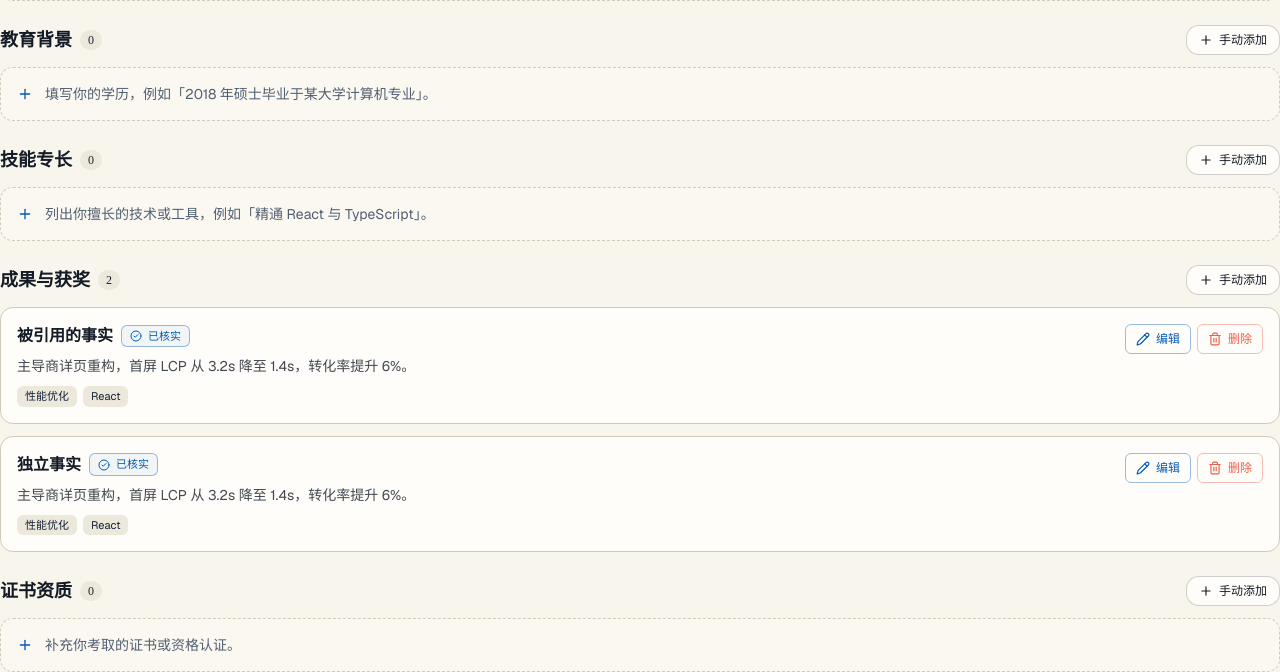
Profile 事实删除入口 › 无反向引用时提示没有被任何简历引用
The width and height of the screenshot is (1280, 672).
(page scrolled)
Click the button with aria-label "删除「独立事实」" at (1230, 468), box [1197,452,1263,482]
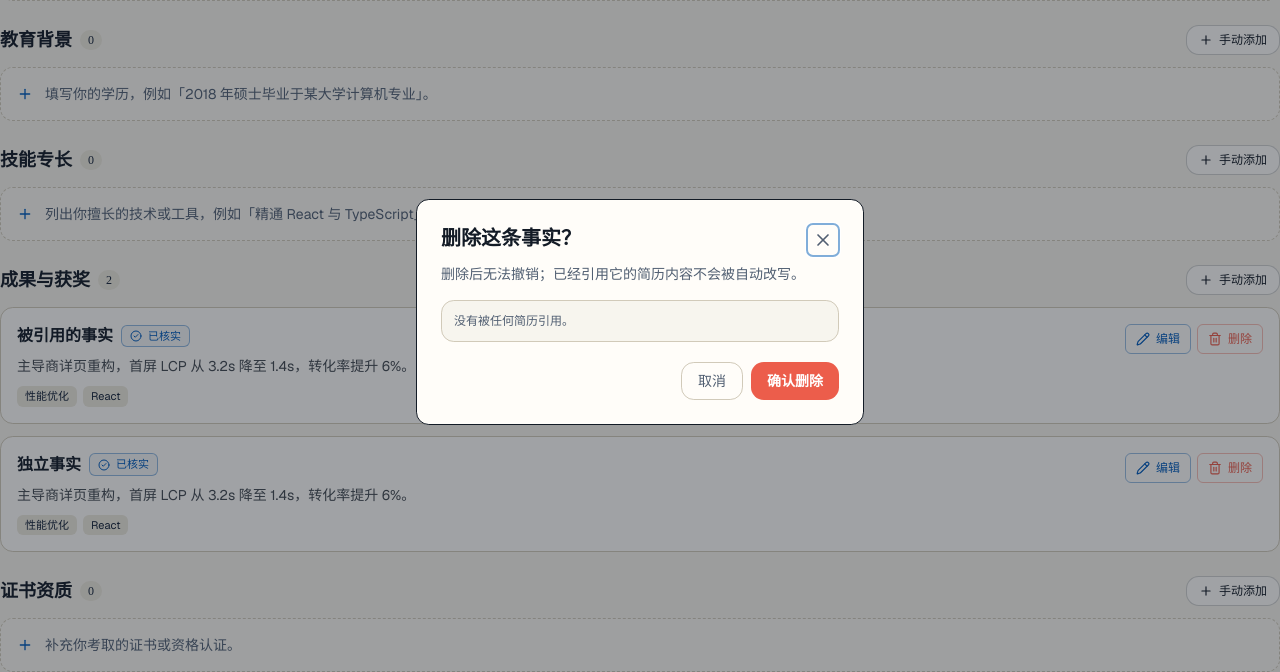
Result: the text "没有被任何简历引用。" is shown at [454,313,574,329]
